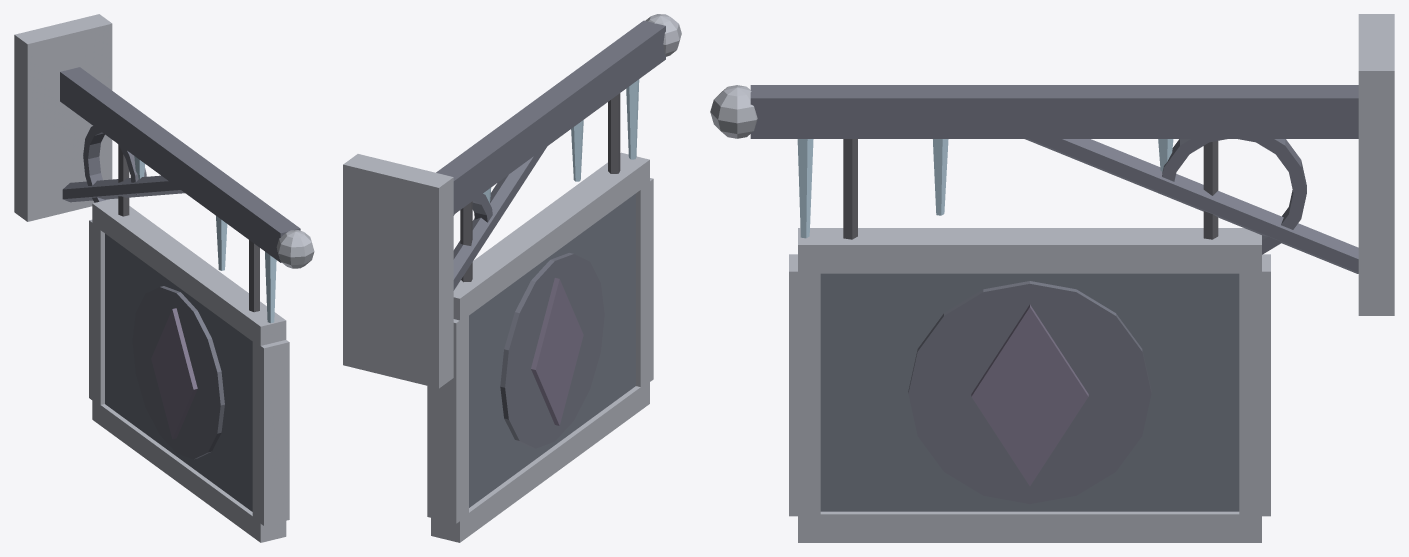
The model's file is PR_Letreiro_Loja_A.fbx.
3 renders of one model, left to right at view 1: azimuth 30°, elevation 25°; view 2: azimuth 150°, elevation 25°; view 3: azimuth 270°, elevation 25°, orthographic. The views are drawn at different scales.
Parts seen in each view (by area): view 1: PR_Letreiro_Loja_A; view 2: PR_Letreiro_Loja_A; view 3: PR_Letreiro_Loja_A.
Boxes of the visible parts, x1,y1,x2,y2 form: PR_Letreiro_Loja_A: [14, 14, 314, 542]; PR_Letreiro_Loja_A: [343, 14, 681, 542]; PR_Letreiro_Loja_A: [710, 14, 1394, 542].
Size of the model in its own units: 0.3 by 1.2 by 1.52.
